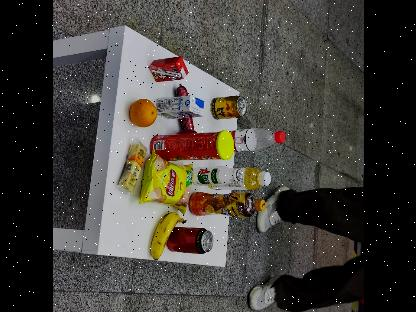Can: (166, 228, 212, 254), (209, 96, 250, 122)
Others: (146, 131, 230, 161), (142, 54, 191, 90), (156, 94, 204, 119)
Plastic Bottle: (187, 193, 265, 217), (192, 166, 270, 190), (233, 130, 286, 150)
